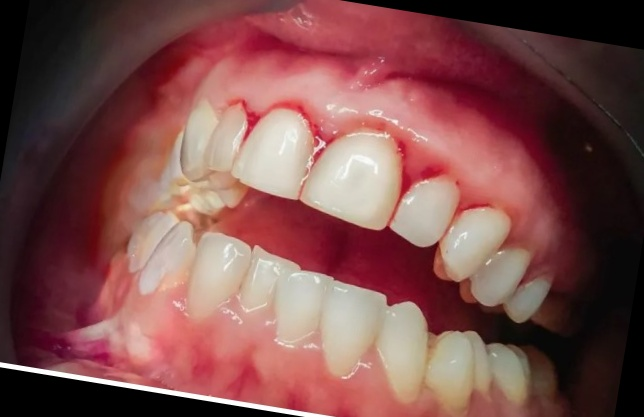Gingivitis: (183, 332, 271, 403), (396, 145, 466, 189), (299, 119, 345, 169), (235, 97, 272, 146), (455, 191, 494, 219)
